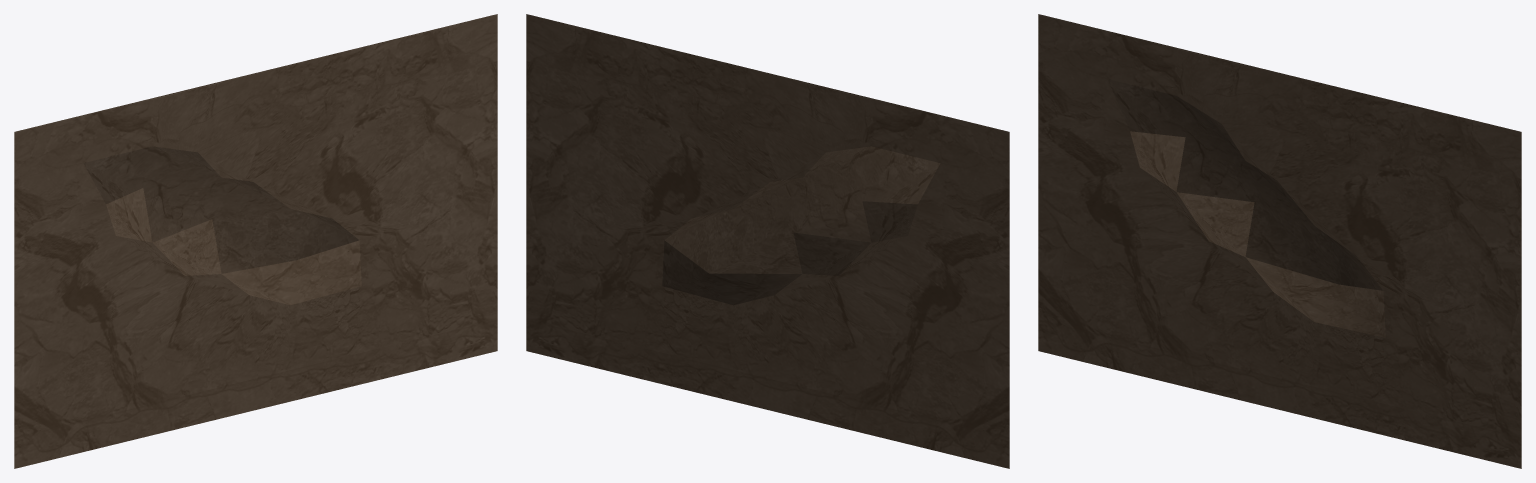
File: fundo2.FBX
3 views of the same model, side by side, from view 1: azimuth 30°, elevation 25°; view 2: azimuth 150°, elevation 25°; view 3: azimuth 330°, elevation 25° (orthographic).
Parts seen in each view (by area): view 1: Plane009; view 2: Plane009; view 3: Plane009.
Boxes of the visible parts, left/top/right/bottom form: Plane009: left=14, top=14, right=497, bottom=468; Plane009: left=526, top=14, right=1009, bottom=468; Plane009: left=1038, top=14, right=1521, bottom=468.
Size of the model in its own units: 244 by 163 by 8.
